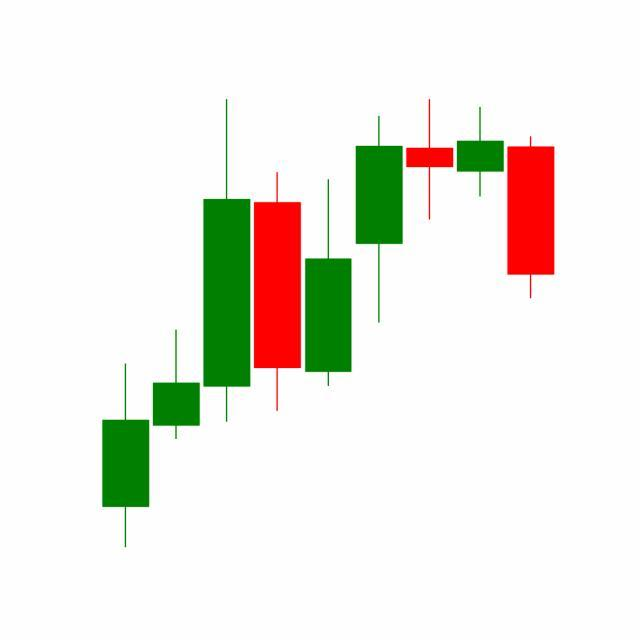Hikkake Pattern: (302, 100, 555, 392)
